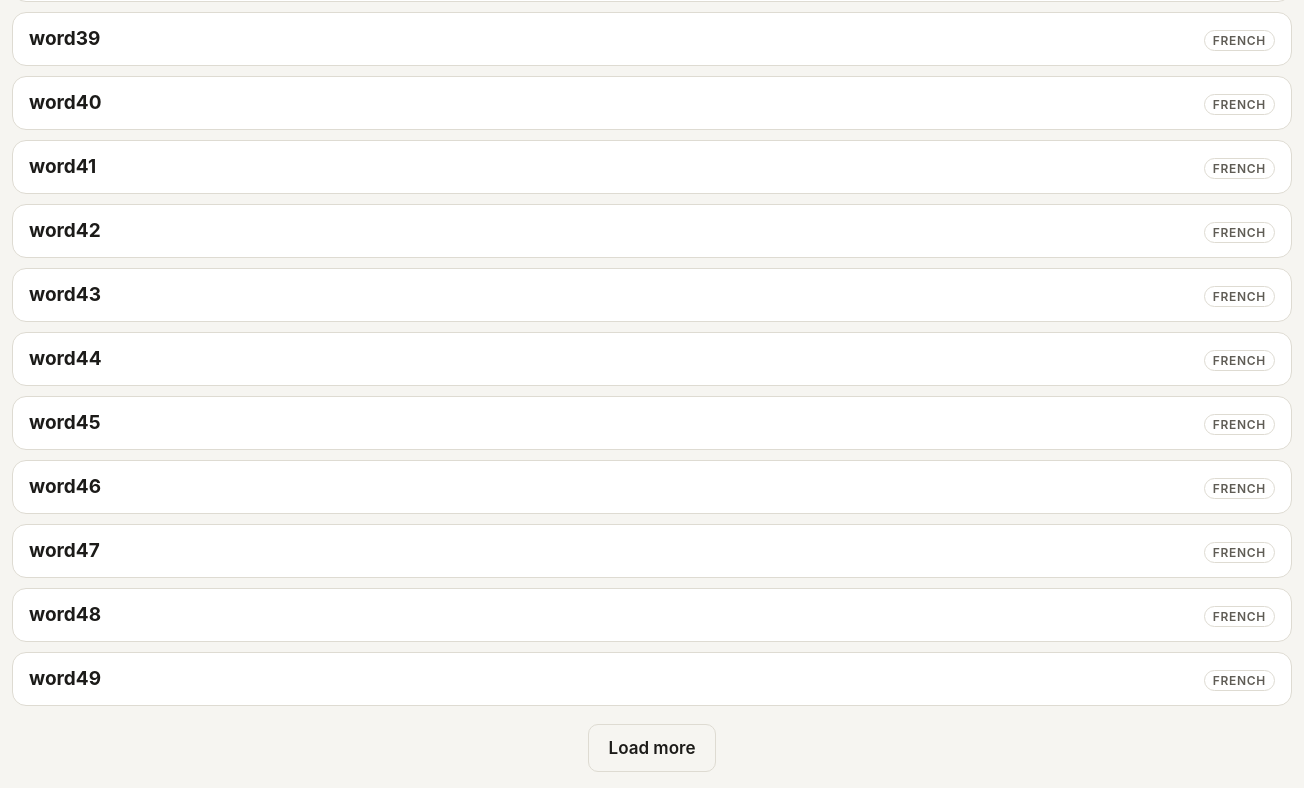
Test: My words pagination › loads the next page after the last word shown, and appends it
The image size is (1304, 788).
(page scrolled)
Click the button "Load more" at (652,748), box [588,724,716,772]
(page scrolled)
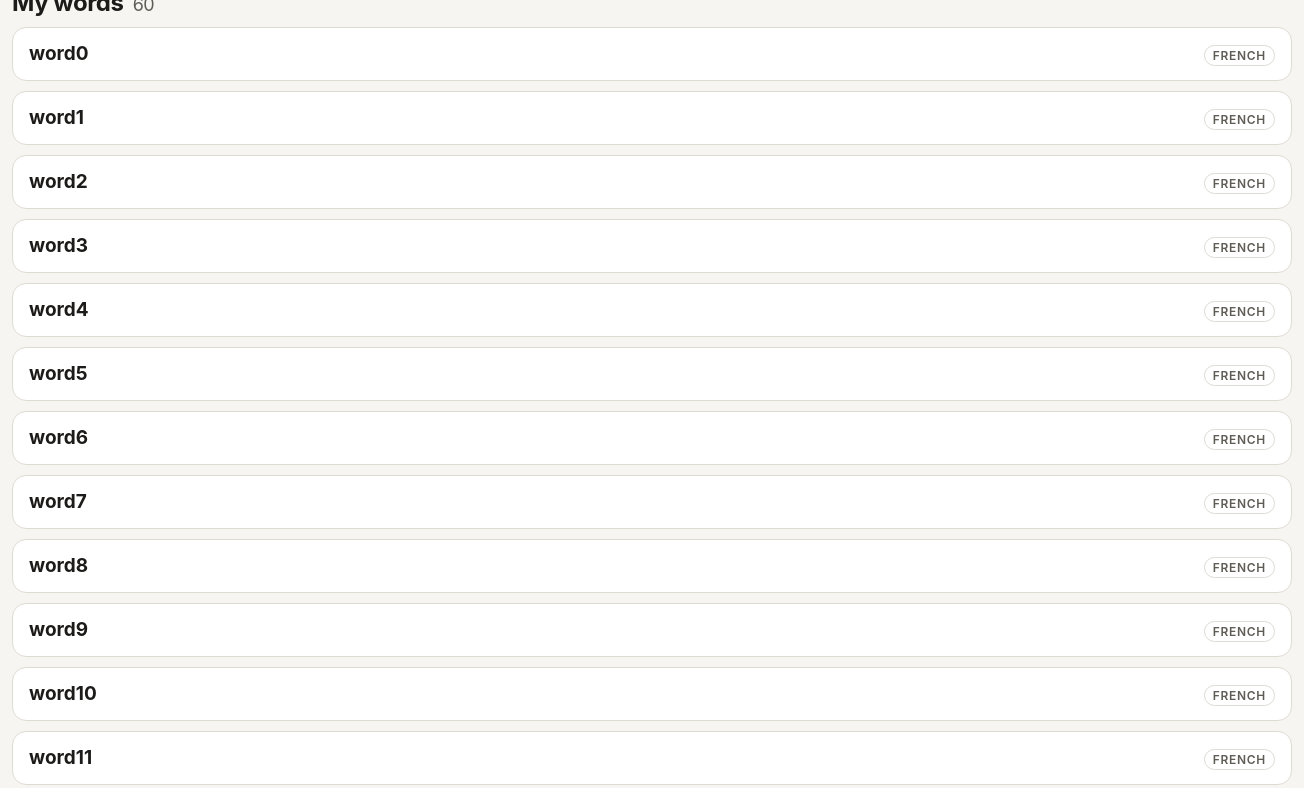
Expected: the text "word0" is shown, [29,42,89,65]
Now the button "Load more" is gone
